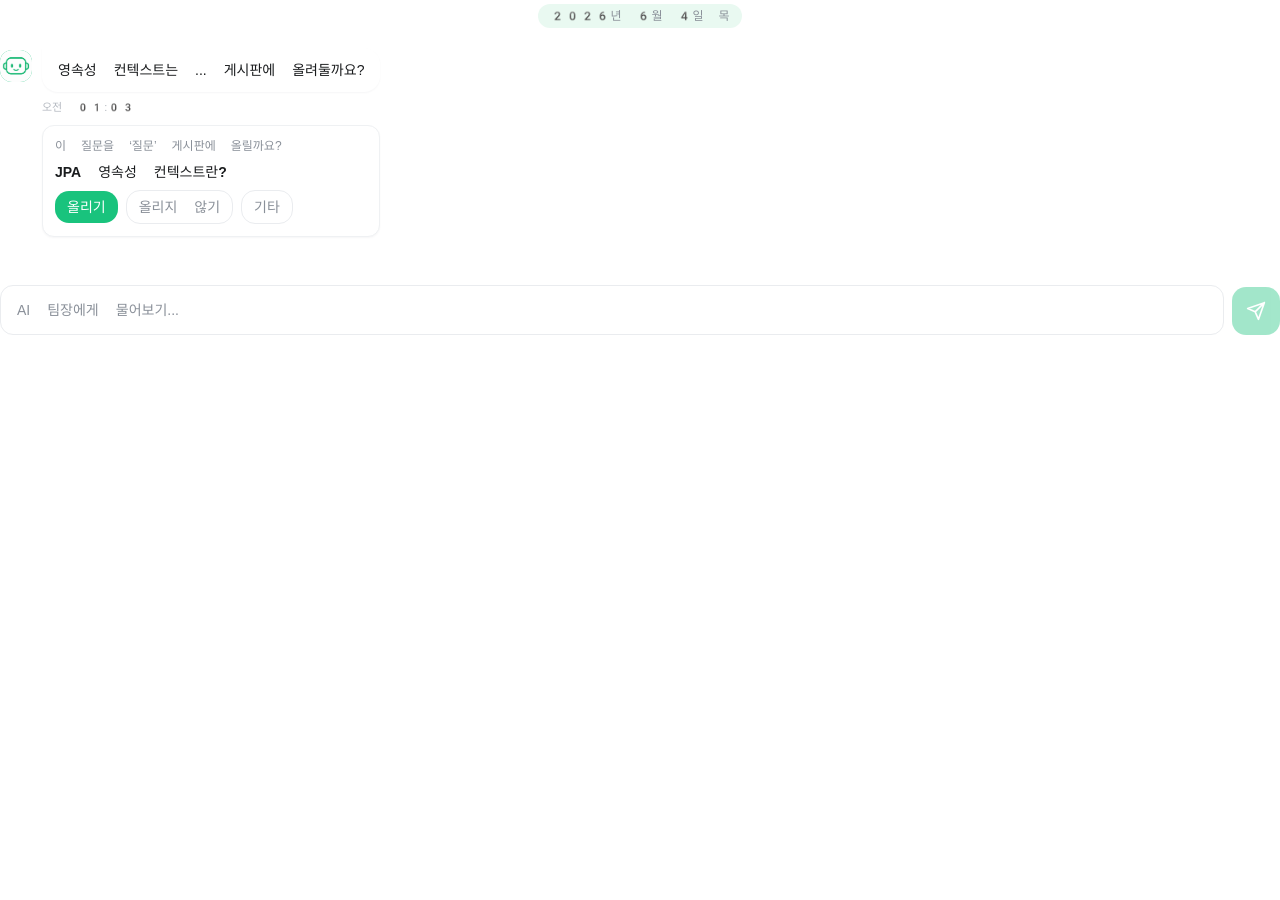
Scenario: GroupAiPage › confirms a SHARE_QUESTION action and marks it shared
Click the button "올리기". click: (86, 206)
box: [55, 190, 118, 222]
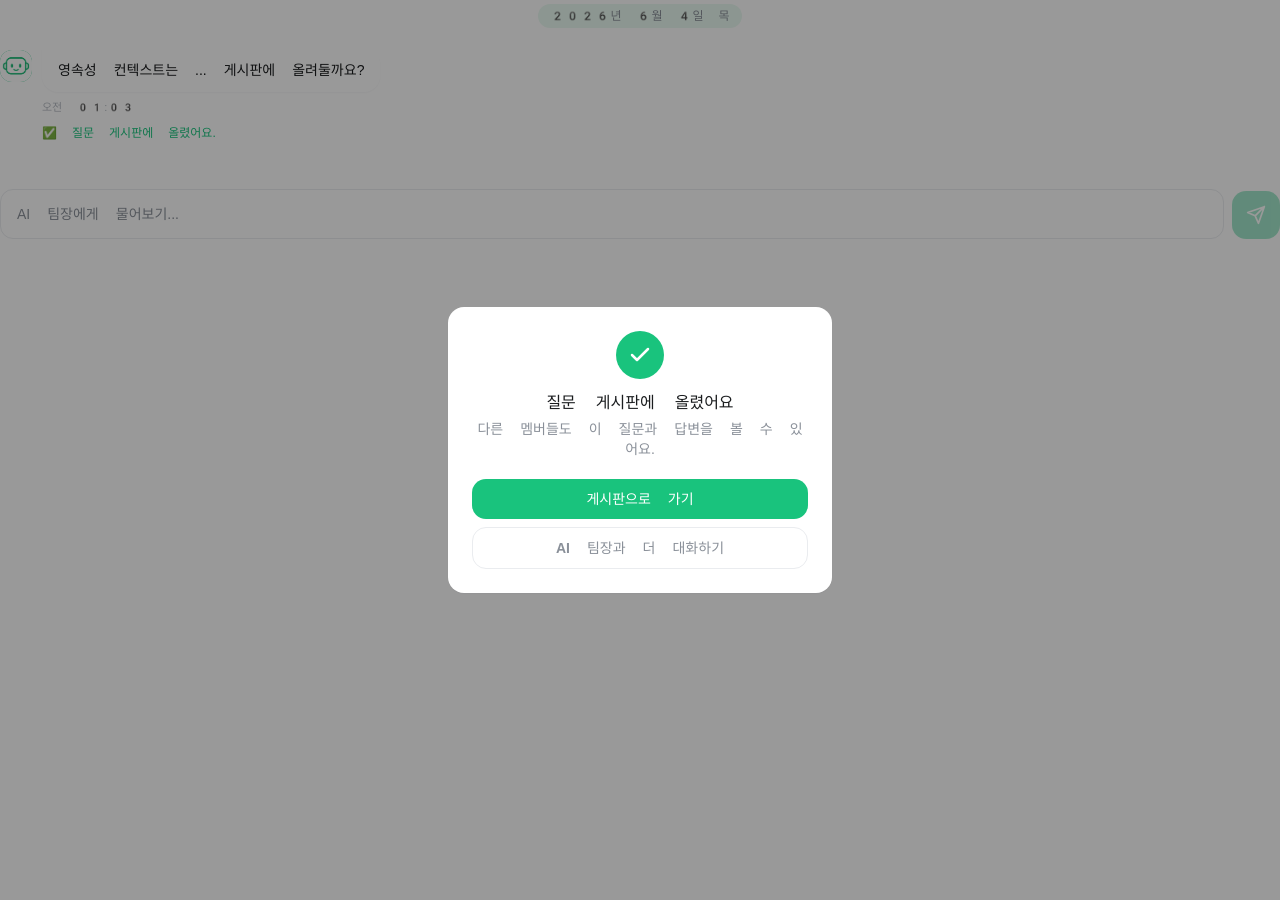
Result: the text "질문 게시판에 올렸어요" is shown at [42, 126, 216, 140]
